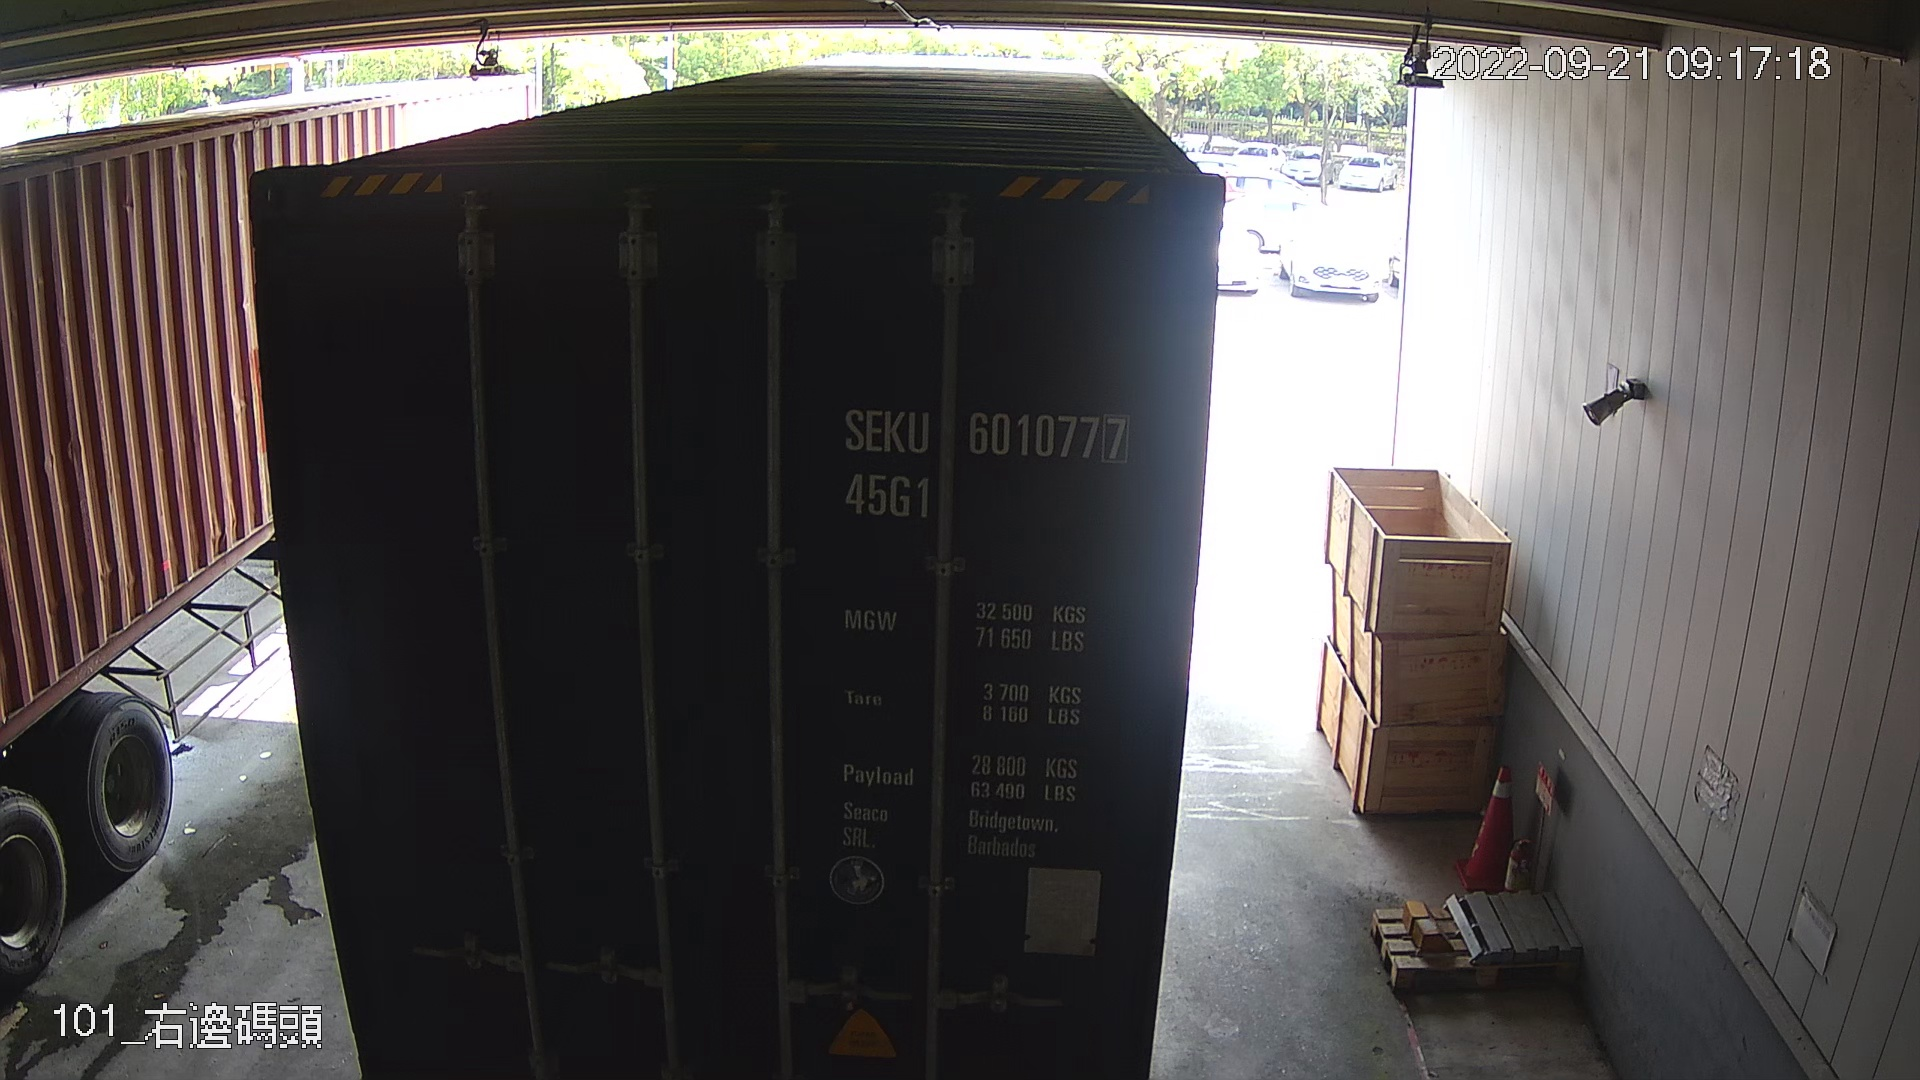container: (828, 392, 1138, 526)
